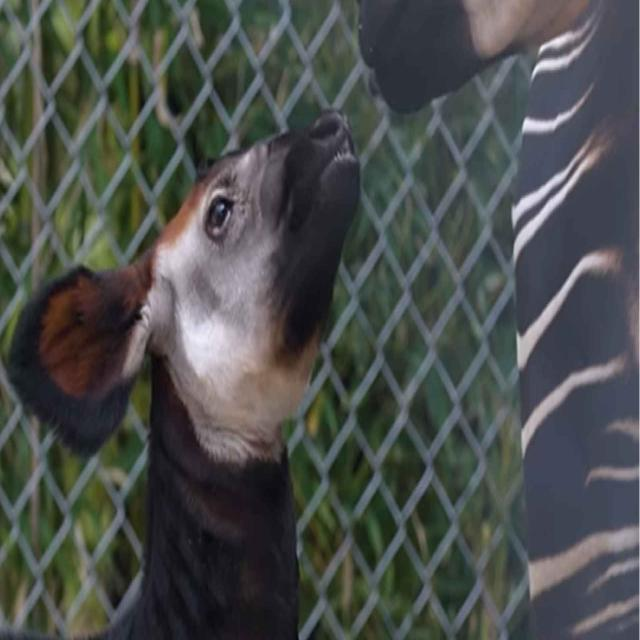Okapi: (9, 107, 360, 640)
